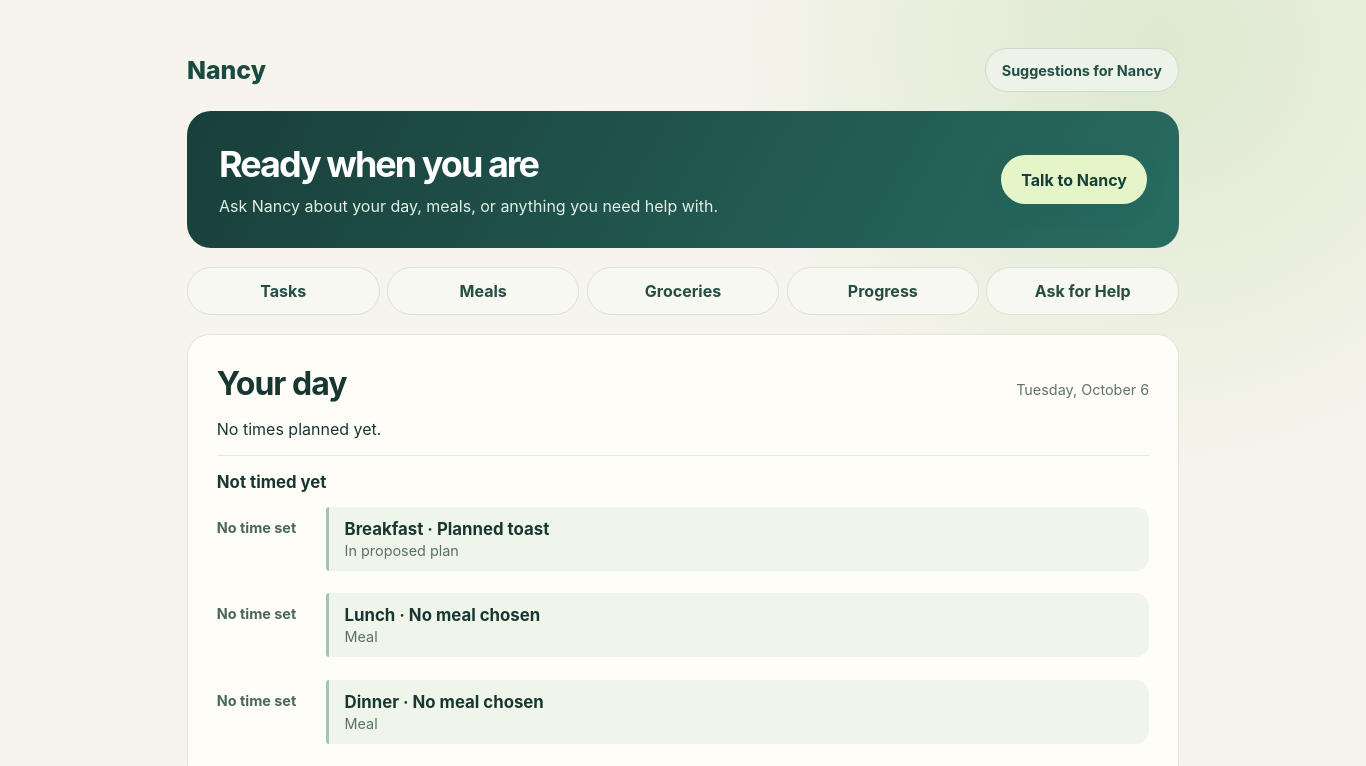
Test: client save and activity recovery › shows every reported meal once, including repeated slots (has plan: true)
What coordinates should you click on to do the following:
click the button "Meals"
I would click on:
 (483, 291)
Its box is [387,267,580,315].
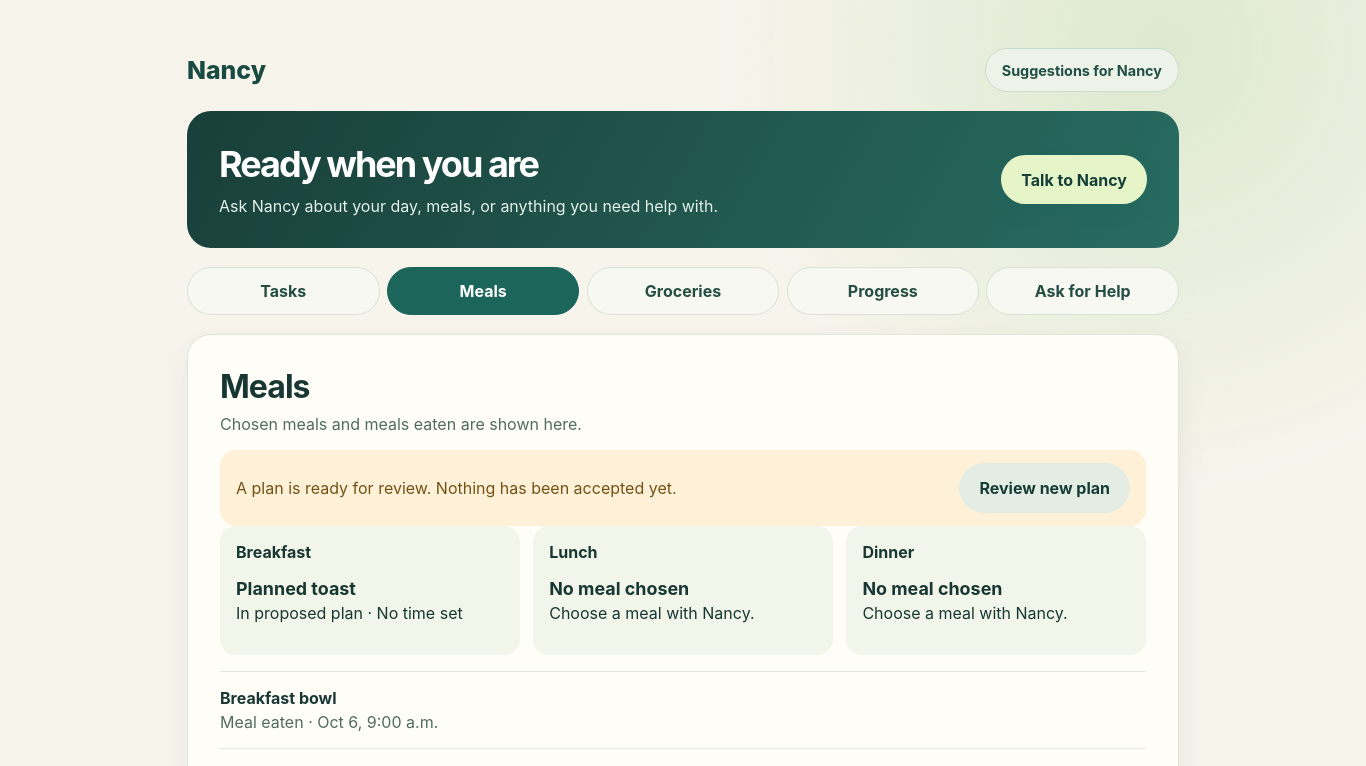
expect the text "Planned toast" is shown: met, box [236,578,356,598]
expect the number of headings "Breakfast bowl" is 1: met, box [220,688,336,708]
